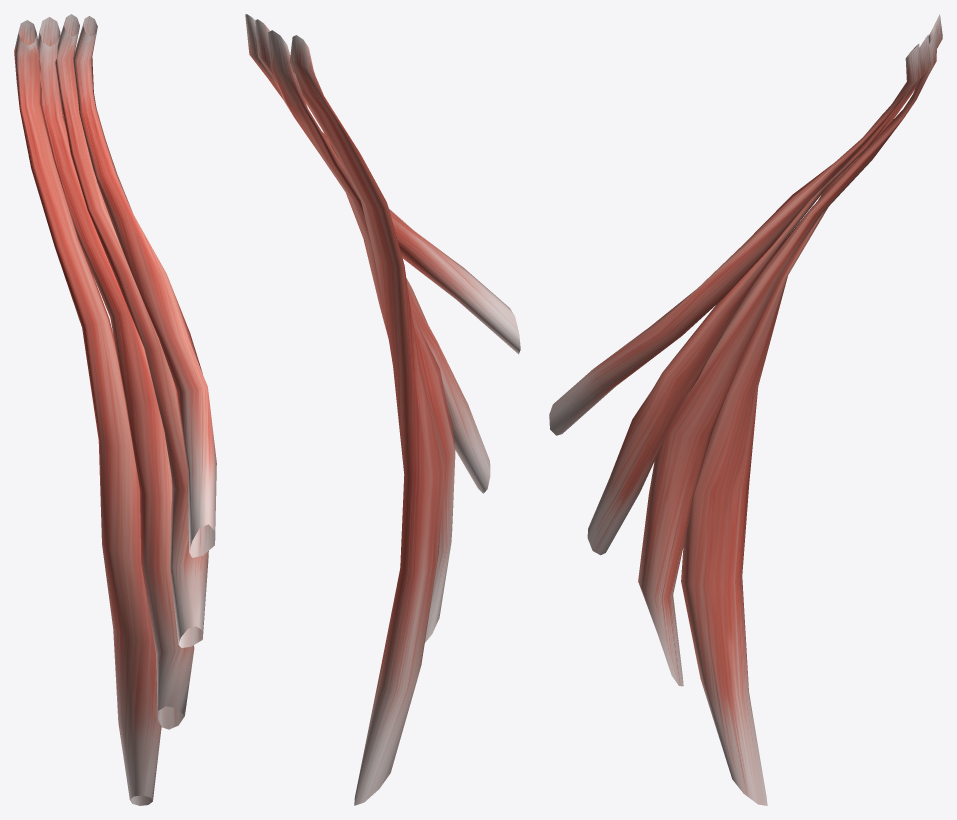
Rendered from Semispinalis_Cervicis_Muscle_Left.obj.
3 renders of one model, left to right at view 1: azimuth 30°, elevation 25°; view 2: azimuth 150°, elevation 25°; view 3: azimuth 270°, elevation 25°, orthographic. The views are drawn at different scales.
Parts seen in each view (by area): view 1: Semispinalis_Cervicis_Muscle_Left_01:Semispinalis_Cervicis_Muscl, Semispinalis_Cervicis_Muscle_Left_02:Semispinalis_Cervicis_Muscl, Semispinalis_Cervicis_Muscle_Left_04:Semispinalis_Cervicis_Muscl, Semispinalis_Cervicis_Muscle_Left_03:Semispinalis_Cervicis_Muscl; view 2: Semispinalis_Cervicis_Muscle_Left_01:Semispinalis_Cervicis_Muscl, Semispinalis_Cervicis_Muscle_Left_02:Semispinalis_Cervicis_Muscl, Semispinalis_Cervicis_Muscle_Left_04:Semispinalis_Cervicis_Muscl, Semispinalis_Cervicis_Muscle_Left_03:Semispinalis_Cervicis_Muscl; view 3: Semispinalis_Cervicis_Muscle_Left_01:Semispinalis_Cervicis_Muscl, Semispinalis_Cervicis_Muscle_Left_02:Semispinalis_Cervicis_Muscl, Semispinalis_Cervicis_Muscle_Left_03:Semispinalis_Cervicis_Muscl, Semispinalis_Cervicis_Muscle_Left_04:Semispinalis_Cervicis_Muscl.
Part boxes in pixels (x1=…): Semispinalis_Cervicis_Muscle_Left_01:Semispinalis_Cervicis_Muscl: x1=14, y1=20, x2=161, y2=805; Semispinalis_Cervicis_Muscle_Left_02:Semispinalis_Cervicis_Muscl: x1=38, y1=17, x2=194, y2=729; Semispinalis_Cervicis_Muscle_Left_04:Semispinalis_Cervicis_Muscl: x1=73, y1=16, x2=216, y2=557; Semispinalis_Cervicis_Muscle_Left_03:Semispinalis_Cervicis_Muscl: x1=55, y1=14, x2=208, y2=647; Semispinalis_Cervicis_Muscle_Left_01:Semispinalis_Cervicis_Muscl: x1=289, y1=35, x2=444, y2=805; Semispinalis_Cervicis_Muscle_Left_02:Semispinalis_Cervicis_Muscl: x1=268, y1=30, x2=455, y2=642; Semispinalis_Cervicis_Muscle_Left_04:Semispinalis_Cervicis_Muscl: x1=245, y1=14, x2=520, y2=354; Semispinalis_Cervicis_Muscle_Left_03:Semispinalis_Cervicis_Muscl: x1=255, y1=19, x2=490, y2=493; Semispinalis_Cervicis_Muscle_Left_01:Semispinalis_Cervicis_Muscl: x1=681, y1=14, x2=942, y2=805; Semispinalis_Cervicis_Muscle_Left_02:Semispinalis_Cervicis_Muscl: x1=638, y1=27, x2=938, y2=686; Semispinalis_Cervicis_Muscle_Left_03:Semispinalis_Cervicis_Muscl: x1=587, y1=34, x2=930, y2=555; Semispinalis_Cervicis_Muscle_Left_04:Semispinalis_Cervicis_Muscl: x1=549, y1=43, x2=921, y2=435.
Bounding box in the file's own units: 0.1384 × 1.18 × 0.5416.
